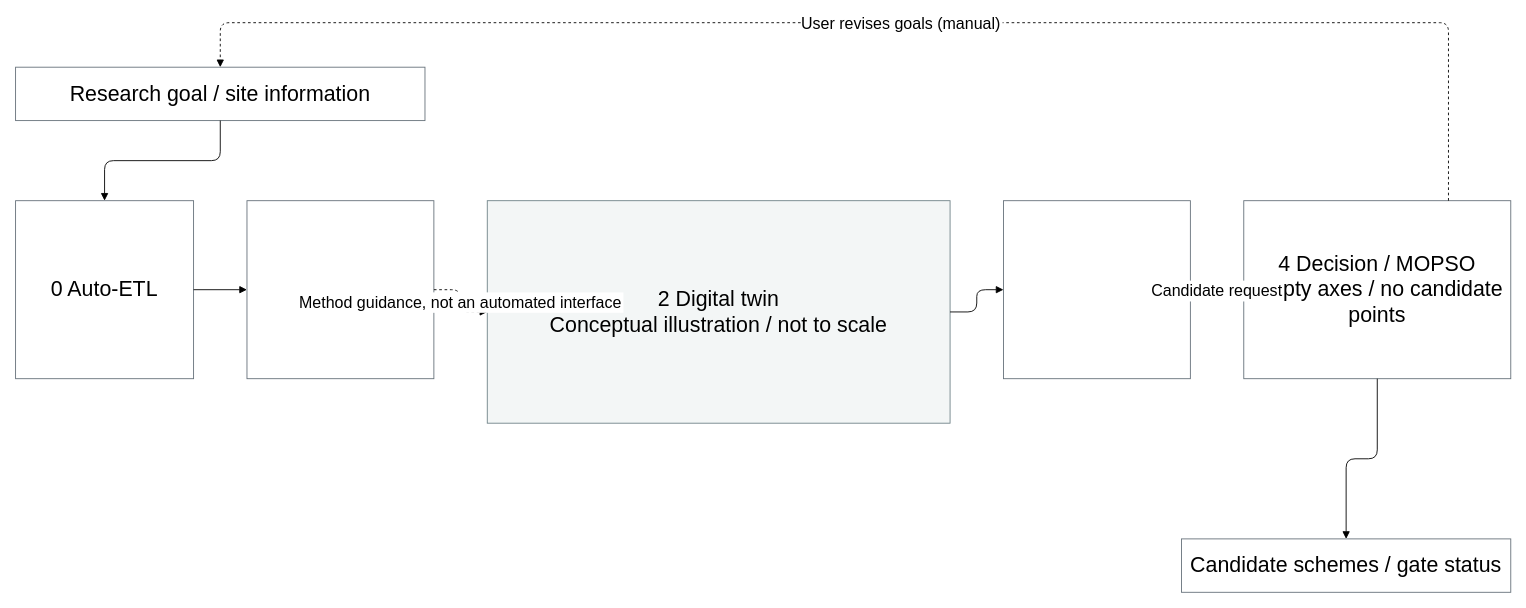
Some shapes in this 1526 by 608 pixel diagram are drawn without their labels. The centre of each missing label's shape, as x and y in pixels:
1 CSM: the point at 340,289
3 RTM: the point at 1096,289
